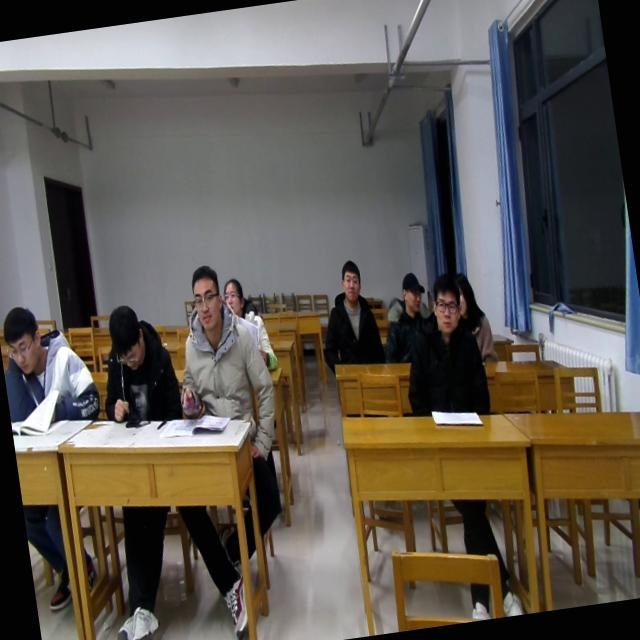bow: (0, 297, 104, 433)
down: (102, 299, 150, 374), (0, 302, 46, 380)
lookup: (184, 261, 228, 335), (424, 270, 466, 340), (333, 254, 366, 305), (220, 274, 248, 316)
sit: (162, 255, 276, 426), (392, 269, 494, 419), (92, 300, 184, 431), (312, 258, 388, 374), (221, 272, 280, 378), (376, 270, 438, 369), (452, 268, 498, 368)
